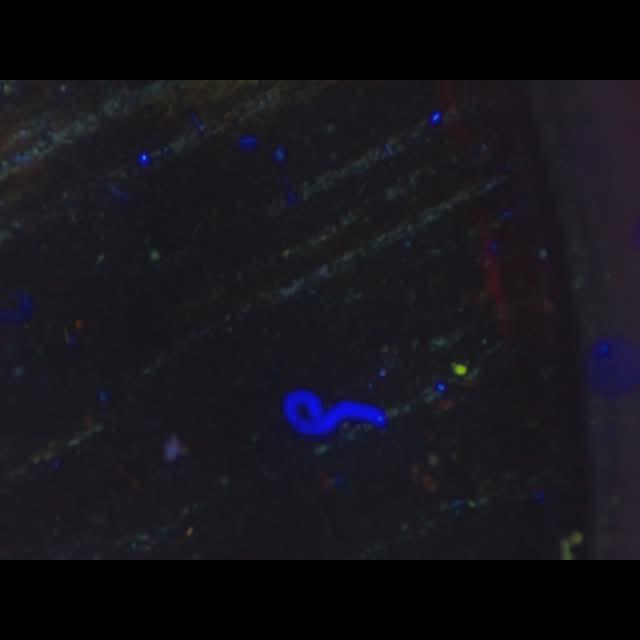microbeads: (449, 361, 469, 377)
